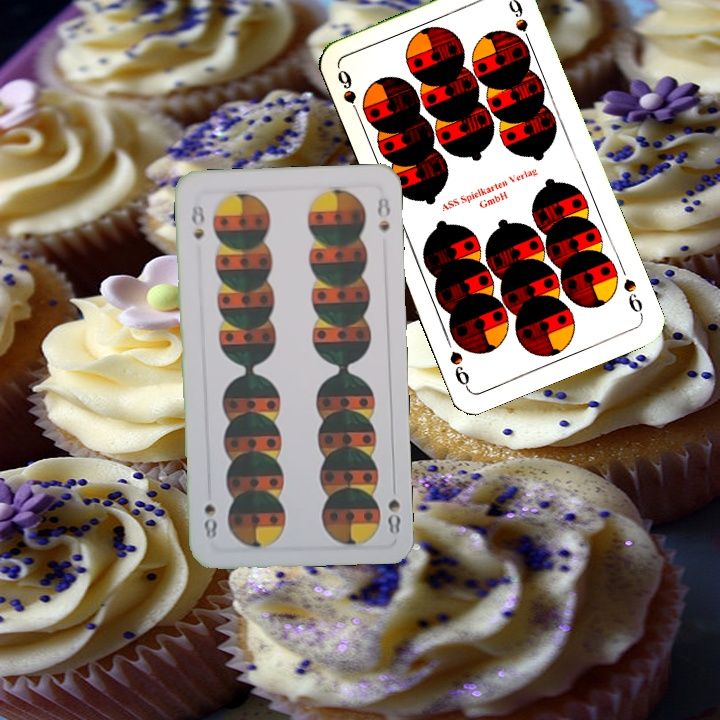S8: (384, 478, 403, 537), (187, 200, 207, 242)
S9: (333, 65, 364, 121), (619, 274, 646, 319)
